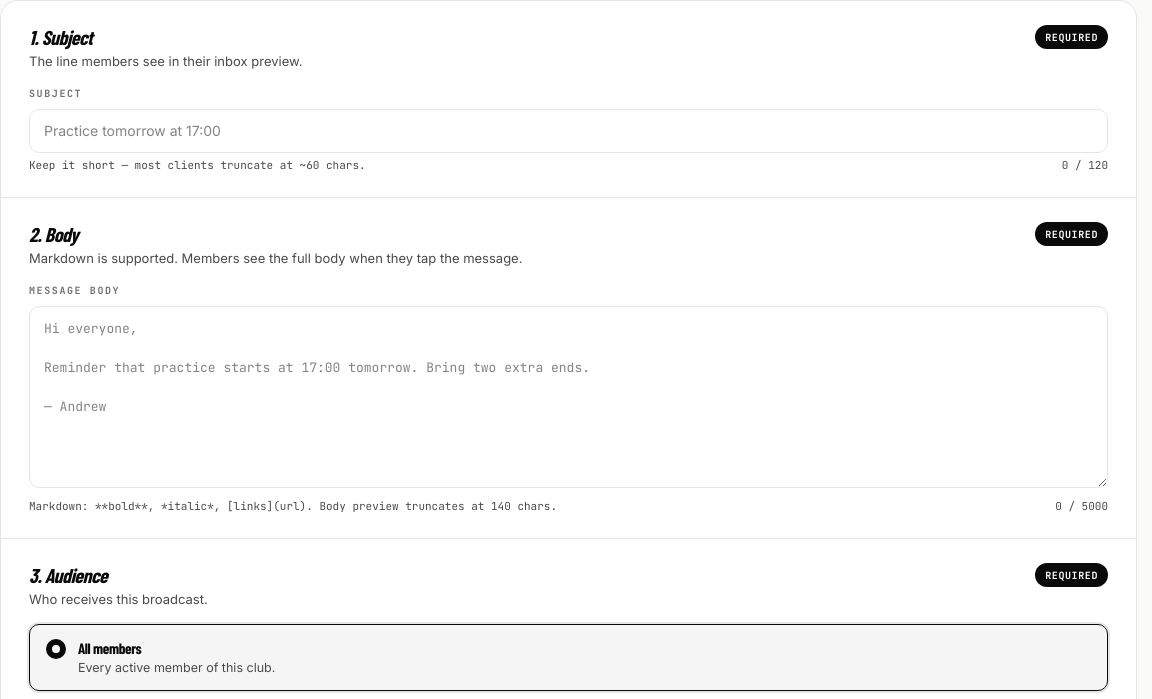
Test: <ComposeForm /> — char counts › subject count tracks the trimmed length
The image size is (1152, 699).
Type "Hello world" into the field labelled "Subject" at (568, 130), box [29,108,1108,152]
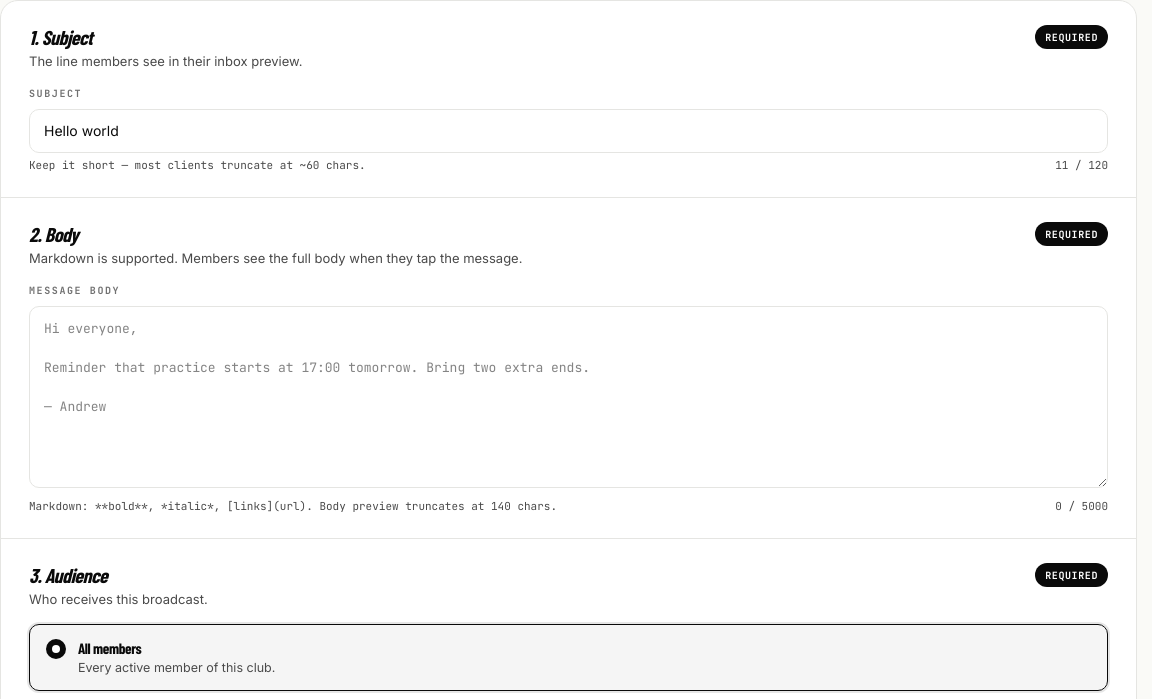
Now the text "11 / 120" is shown, box [1055,156,1108,173]
